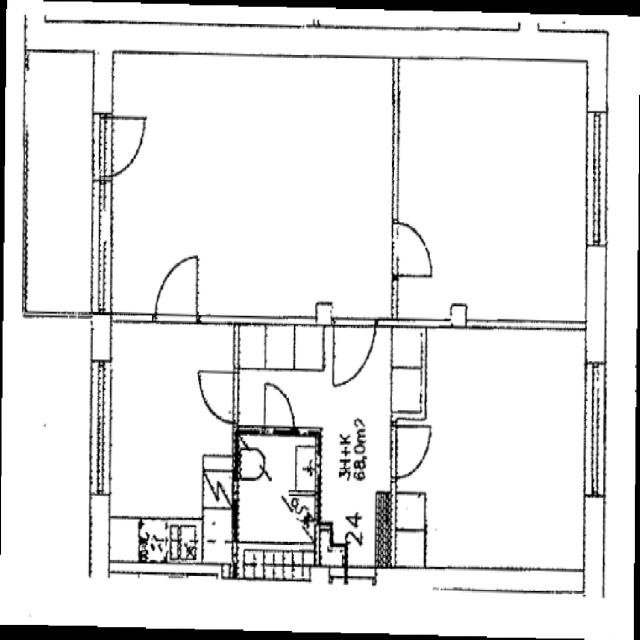door: (241, 326, 316, 436), (152, 247, 203, 324), (329, 312, 379, 388), (389, 213, 438, 283), (192, 361, 242, 423), (103, 109, 147, 178), (388, 419, 434, 481), (256, 376, 300, 437)
window: (110, 302, 158, 332)
zone: (126, 57, 400, 321), (394, 56, 594, 333), (390, 325, 594, 572), (96, 315, 239, 574), (235, 430, 318, 565), (238, 320, 324, 432), (393, 529, 426, 566)
